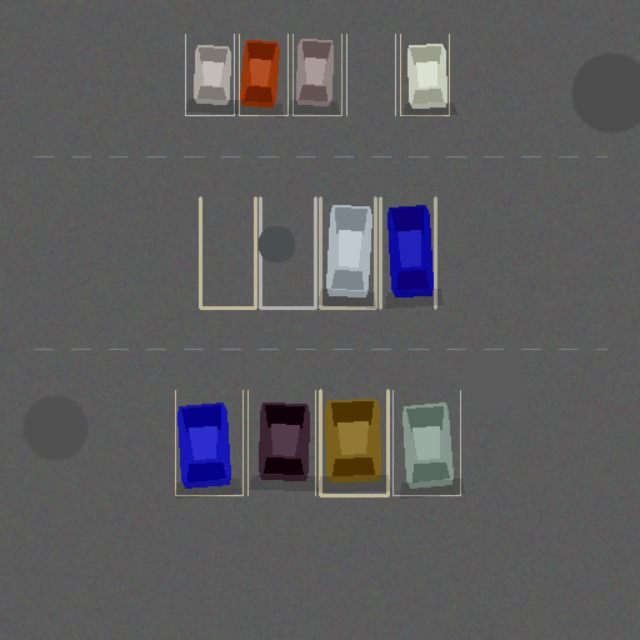space-empty: (200, 197, 255, 307), (260, 197, 315, 307), (346, 34, 395, 115)
space-occupied: (175, 390, 243, 495), (247, 390, 315, 495), (320, 390, 387, 495), (393, 390, 460, 495), (320, 197, 375, 307), (380, 197, 435, 307), (185, 34, 234, 115), (239, 34, 288, 115), (292, 34, 341, 115), (400, 34, 449, 115)
